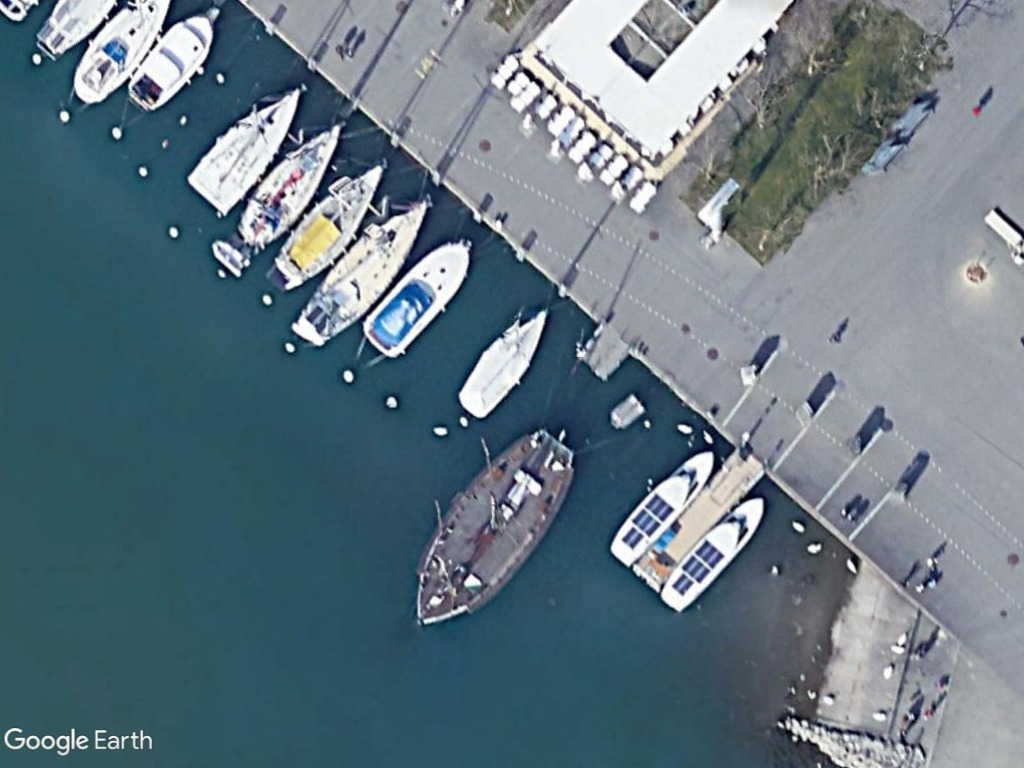boat: (406, 435, 577, 635), (287, 195, 428, 352), (183, 84, 304, 219), (269, 159, 389, 289), (238, 118, 349, 250), (358, 238, 475, 360), (656, 493, 768, 616), (606, 447, 716, 570), (456, 305, 552, 422), (124, 7, 217, 113), (203, 235, 252, 282)
